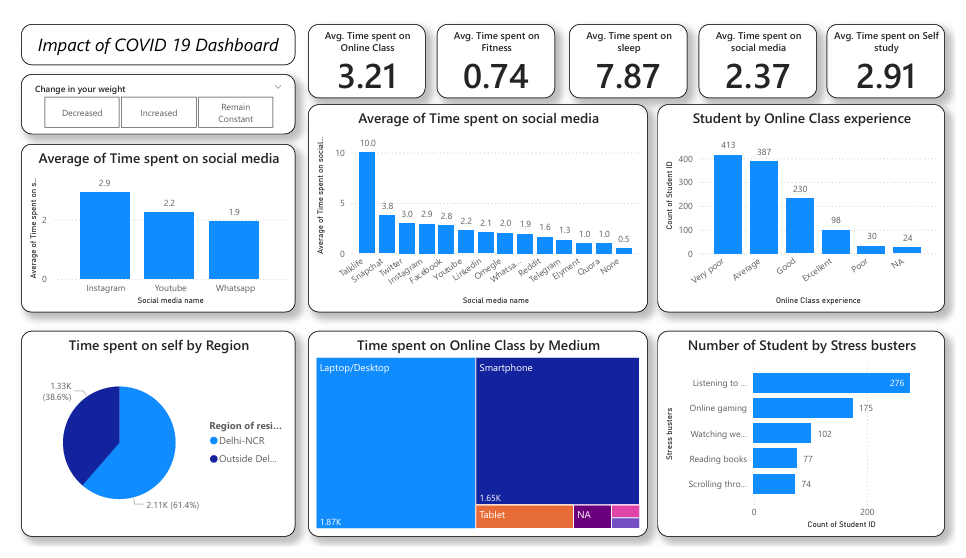

The dashboard page shown, as its layout file describes it:
{"tool":"powerbi","page":{"name":"Page 1","canvas":[1280,720],"ordinal":0},"visuals":[{"type":"textbox","box":[10.2,10.2,373.2,55.6],"z":0},{"type":"slicer","fields":{"Values":["Student_Survey.Change in your weight"]},"box":[10.2,77.6,373.2,82],"z":1000},{"type":"card","title":"Avg. Time spent on Online Class","fields":{"Values":["Avg(Student_Survey.Time spent on Online Class)"]},"box":[399.5,10.2,161,101],"z":2000},{"type":"card","title":"Avg. Time spent on Self study","fields":{"Values":["Avg(Student_Survey.Time spent on self study)"]},"box":[1104.9,10.2,161,101],"z":3000},{"type":"card","title":"Avg. Time spent on social media","fields":{"Values":["Avg(Student_Survey.Time spent on social media)"]},"box":[930.7,10.2,161,101],"z":4000},{"type":"card","title":"Avg. Time spent on sleep","fields":{"Values":["Avg(Student_Survey.Time spent on sleep)"]},"box":[755.1,10.2,161,101],"z":5000},{"type":"card","title":"Avg. Time spent on Fitness","fields":{"Values":["Avg(Student_Survey.Time spent on fitness)"]},"box":[575.1,10.2,161,101],"z":6000},{"type":"columnChart","title":"Average of Time spent on social media","fields":{"Category":["Student_Survey.Social media name"],"Y":["Avg(Student_Survey.Time spent on social media)"]},"box":[10.2,172.7,373.2,229.8],"z":7000},{"type":"pieChart","title":"Time spent on self by Region","fields":{"Category":["Student_Survey.Region of residence"],"Y":["Sum(Student_Survey.Time spent on self study)"]},"box":[10.2,427.3,373.2,279.5],"z":8000},{"type":"columnChart","title":"Average of Time spent on social media","fields":{"Category":["Student_Survey.Social media name"],"Y":["Avg(Student_Survey.Time spent on social media)"]},"box":[399.5,118.5,462.4,283.9],"z":9000},{"type":"treemap","title":"Time spent on Online Class by Medium","fields":{"Group":["Student_Survey.Medium for online class"],"Values":["Sum(Student_Survey.Time spent on Online Class)"]},"box":[399.5,427.3,462.4,279.5],"z":10000},{"type":"columnChart","title":"Student by Online Class experience","fields":{"Y":["CountNonNull(Student_Survey.Student ID)"],"Category":["Student_Survey.Online Class experience"]},"box":[875.1,118.5,390.7,283.9],"z":11000},{"type":"barChart","title":"Number of Student by Stress busters","fields":{"Category":["Student_Survey.Stress busters"],"Y":["CountNonNull(Student_Survey.Student ID)"]},"box":[875,427,391,280],"z":12000}]}

Visuals, with their boxes in screenshot pixels (x1, y1, x2, y2), scaled from the page's 1280x720 canvas onto the 966x558 screenshot:
textbox: <box>8,8,289,51</box>
slicer - Student_Survey.Change in your weight: <box>8,60,289,124</box>
"Avg. Time spent on Online Class" card: <box>301,8,423,86</box>
"Avg. Time spent on Self study" card: <box>834,8,955,86</box>
"Avg. Time spent on social media" card: <box>702,8,824,86</box>
"Avg. Time spent on sleep" card: <box>570,8,691,86</box>
"Avg. Time spent on Fitness" card: <box>434,8,556,86</box>
"Average of Time spent on social media" columnChart: <box>8,134,289,312</box>
"Time spent on self by Region" pieChart: <box>8,331,289,548</box>
"Average of Time spent on social media" columnChart: <box>301,92,650,312</box>
"Time spent on Online Class by Medium" treemap: <box>301,331,650,548</box>
"Student by Online Class experience" columnChart: <box>660,92,955,312</box>
"Number of Student by Stress busters" barChart: <box>660,331,955,548</box>
